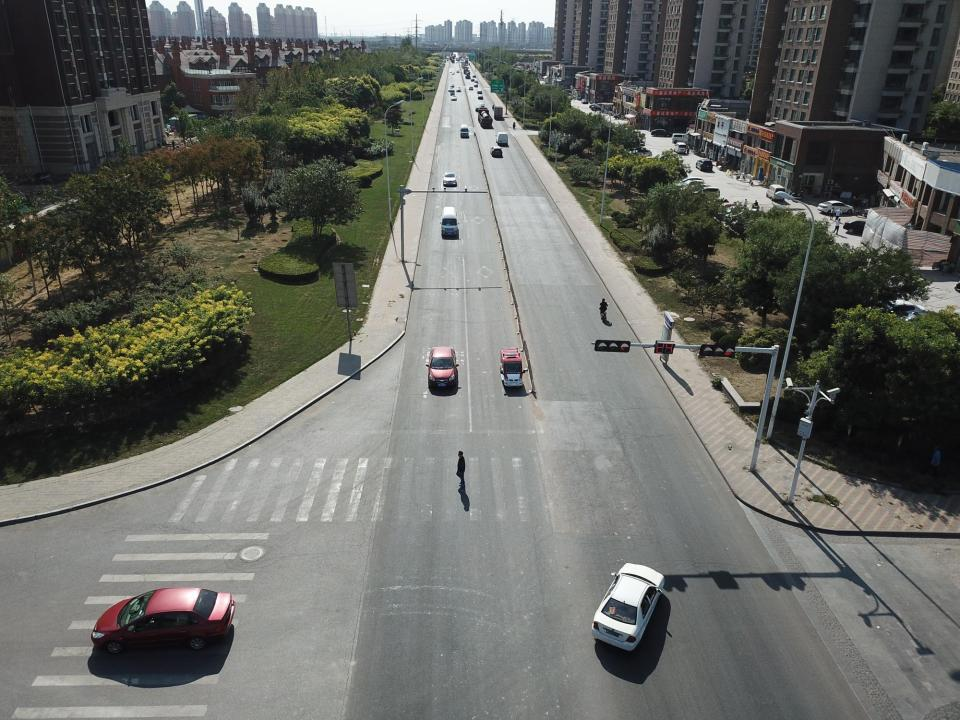car: (89, 589, 236, 655), (584, 563, 668, 655), (426, 347, 462, 392), (886, 298, 926, 314), (817, 201, 855, 215), (901, 312, 942, 322), (843, 219, 867, 234), (442, 171, 458, 186), (695, 158, 712, 170), (650, 129, 672, 137), (673, 142, 687, 154), (459, 124, 469, 137), (490, 146, 503, 155), (448, 86, 454, 94), (580, 98, 589, 103), (472, 78, 479, 83), (478, 94, 484, 99), (456, 86, 461, 92), (468, 85, 474, 90), (450, 96, 456, 100), (477, 89, 482, 93), (474, 83, 479, 87), (472, 73, 476, 77), (456, 69, 459, 73), (451, 71, 454, 74), (450, 83, 454, 85)
truck: (500, 347, 522, 389), (477, 107, 493, 127), (494, 105, 503, 121)
van: (440, 205, 459, 236), (764, 184, 786, 200), (496, 131, 509, 145), (672, 133, 690, 142)
